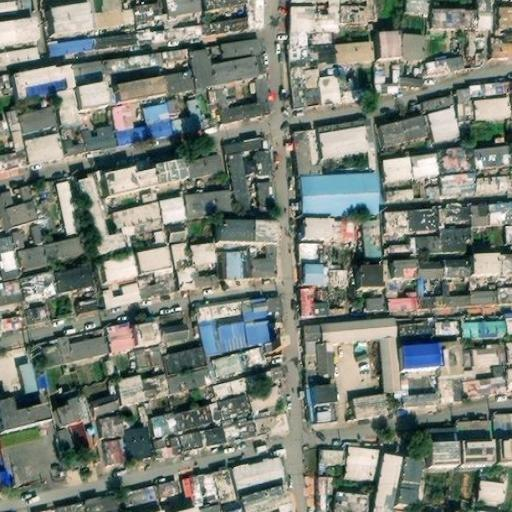building: (321, 318, 401, 393), (298, 172, 377, 214), (191, 40, 261, 86), (78, 179, 122, 252), (193, 302, 248, 357), (229, 141, 270, 212), (215, 80, 269, 123), (316, 122, 375, 159), (192, 468, 241, 512), (232, 456, 287, 495), (205, 344, 264, 380), (238, 300, 283, 347), (115, 193, 164, 236), (291, 3, 339, 44), (9, 225, 49, 273), (429, 0, 493, 30), (0, 396, 49, 432), (302, 323, 334, 377), (110, 104, 150, 147), (373, 455, 404, 509), (101, 167, 157, 196), (425, 98, 459, 145), (54, 181, 82, 238), (55, 59, 106, 90), (378, 115, 428, 146), (1, 186, 39, 226), (54, 420, 92, 460), (69, 327, 111, 363), (238, 484, 292, 512), (117, 72, 169, 101), (168, 239, 197, 291), (13, 66, 59, 98), (316, 71, 359, 104), (165, 364, 212, 394), (168, 96, 203, 136), (161, 344, 207, 374), (463, 364, 509, 394), (136, 266, 179, 298), (36, 335, 75, 370), (289, 65, 320, 109), (48, 2, 92, 33), (180, 421, 225, 451), (160, 477, 198, 512), (219, 220, 278, 242), (345, 446, 381, 482), (150, 411, 183, 450), (210, 394, 254, 423), (52, 262, 93, 293), (376, 64, 423, 91), (97, 253, 139, 283), (400, 378, 441, 408), (294, 130, 321, 175), (44, 234, 87, 262), (22, 133, 60, 164), (105, 320, 139, 354), (55, 392, 89, 426), (0, 131, 28, 172), (144, 103, 174, 141), (134, 246, 173, 275), (102, 280, 142, 308), (175, 403, 215, 431), (20, 271, 58, 300), (250, 407, 288, 436), (0, 18, 39, 46), (125, 485, 165, 512), (464, 342, 507, 367), (53, 87, 79, 128), (398, 458, 422, 502), (415, 279, 449, 310), (18, 110, 60, 135), (108, 53, 153, 76), (183, 193, 230, 215), (244, 248, 276, 280), (95, 412, 128, 443), (245, 368, 284, 394), (437, 223, 473, 251), (81, 126, 118, 153), (438, 149, 475, 176), (220, 415, 255, 443), (437, 339, 464, 375), (150, 45, 192, 68), (114, 376, 146, 406), (399, 341, 439, 365), (462, 316, 505, 338), (471, 202, 512, 225), (353, 392, 389, 418), (134, 343, 164, 374), (397, 319, 434, 344), (72, 81, 106, 108), (249, 387, 283, 414), (158, 196, 188, 226), (133, 318, 163, 348), (49, 37, 96, 56), (153, 158, 186, 185), (212, 378, 249, 402), (331, 43, 373, 64), (202, 17, 248, 36), (94, 31, 137, 51), (314, 477, 338, 512), (292, 42, 332, 63), (427, 55, 465, 77), (165, 66, 197, 92), (126, 426, 152, 458), (182, 155, 218, 178), (472, 97, 511, 118), (333, 490, 370, 512), (300, 288, 330, 315), (71, 290, 101, 317), (317, 449, 348, 475), (471, 79, 511, 99), (474, 147, 512, 168), (440, 174, 476, 196), (222, 249, 246, 281), (471, 254, 503, 278), (409, 208, 438, 234), (428, 440, 458, 465), (304, 217, 334, 242), (461, 420, 493, 443), (338, 0, 367, 25), (91, 394, 121, 418), (436, 204, 472, 224), (168, 22, 204, 42), (462, 441, 494, 463), (0, 48, 37, 67), (439, 373, 465, 400), (376, 31, 402, 58), (142, 374, 170, 399), (391, 259, 421, 282), (386, 290, 417, 312), (131, 3, 163, 24), (410, 154, 439, 177), (475, 175, 510, 194), (101, 438, 126, 464), (363, 220, 380, 258), (383, 158, 411, 181), (442, 258, 472, 279), (135, 27, 170, 45), (20, 363, 39, 396), (333, 215, 357, 241), (190, 241, 217, 264), (86, 495, 122, 512), (303, 262, 326, 288), (307, 401, 334, 423), (469, 285, 500, 304), (306, 384, 337, 403), (22, 305, 50, 326), (410, 232, 439, 252), (62, 132, 85, 157), (384, 213, 410, 235), (0, 108, 21, 135), (160, 323, 188, 342), (164, 221, 188, 243), (457, 88, 473, 121), (401, 35, 423, 59), (491, 413, 512, 438), (358, 266, 383, 286), (479, 482, 505, 501), (433, 318, 459, 336), (299, 242, 320, 264), (427, 427, 457, 442), (200, 110, 222, 130), (325, 267, 347, 287), (420, 261, 443, 280), (490, 34, 512, 53), (257, 184, 272, 211), (406, 0, 429, 17), (497, 436, 512, 462), (364, 297, 387, 313), (385, 190, 412, 203), (385, 242, 411, 254), (497, 7, 512, 27), (196, 274, 219, 287), (448, 292, 470, 305), (55, 501, 80, 512), (501, 223, 512, 247), (502, 252, 512, 276), (292, 0, 339, 5), (499, 284, 512, 301), (0, 470, 10, 491), (0, 76, 10, 95), (174, 506, 199, 512), (504, 315, 512, 332), (372, 506, 393, 512), (506, 341, 512, 361), (508, 367, 512, 391)
